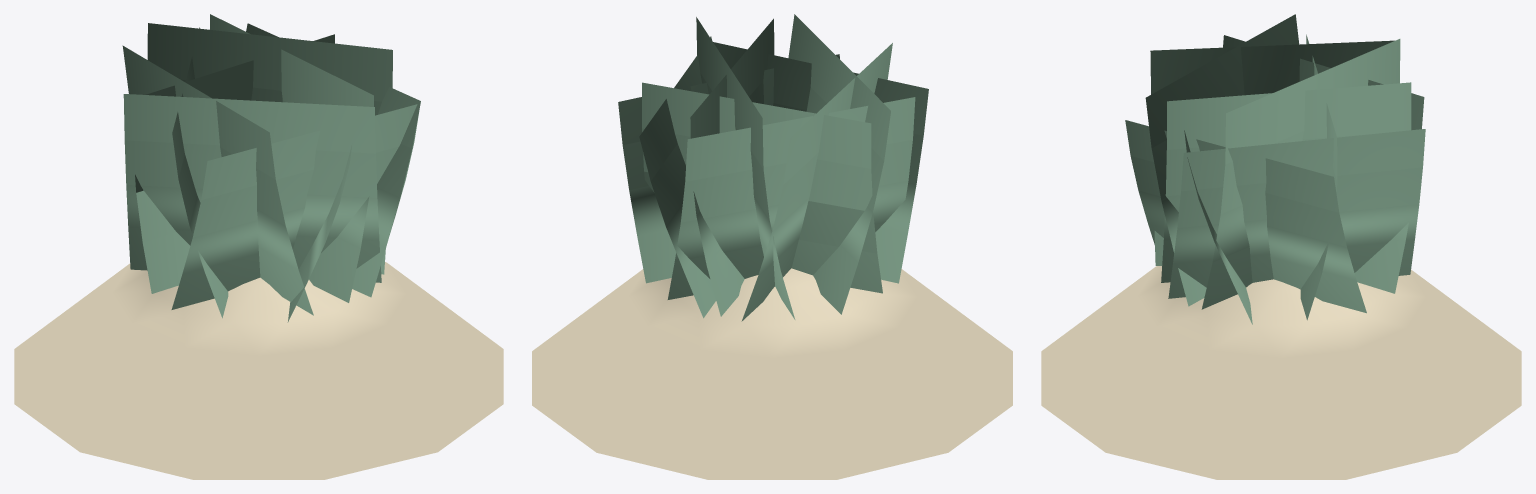
Rendered from beach_dunegrass_b.glb.
3 renders of one model, left to right at view 1: azimuth 30°, elevation 25°; view 2: azimuth 150°, elevation 25°; view 3: azimuth 270°, elevation 25°, orthographic.
Visible parts, largest first — view 1: beach_dunegrass_b_lod0; view 2: beach_dunegrass_b_lod0; view 3: beach_dunegrass_b_lod0.
Boxes of the visible parts, <box> form: beach_dunegrass_b_lod0: <box>14,14,503,479</box>; beach_dunegrass_b_lod0: <box>532,14,1012,479</box>; beach_dunegrass_b_lod0: <box>1041,14,1521,479</box>.
Size of what is drawn, in the model's own units: 1.39 by 1.01 by 1.39.
